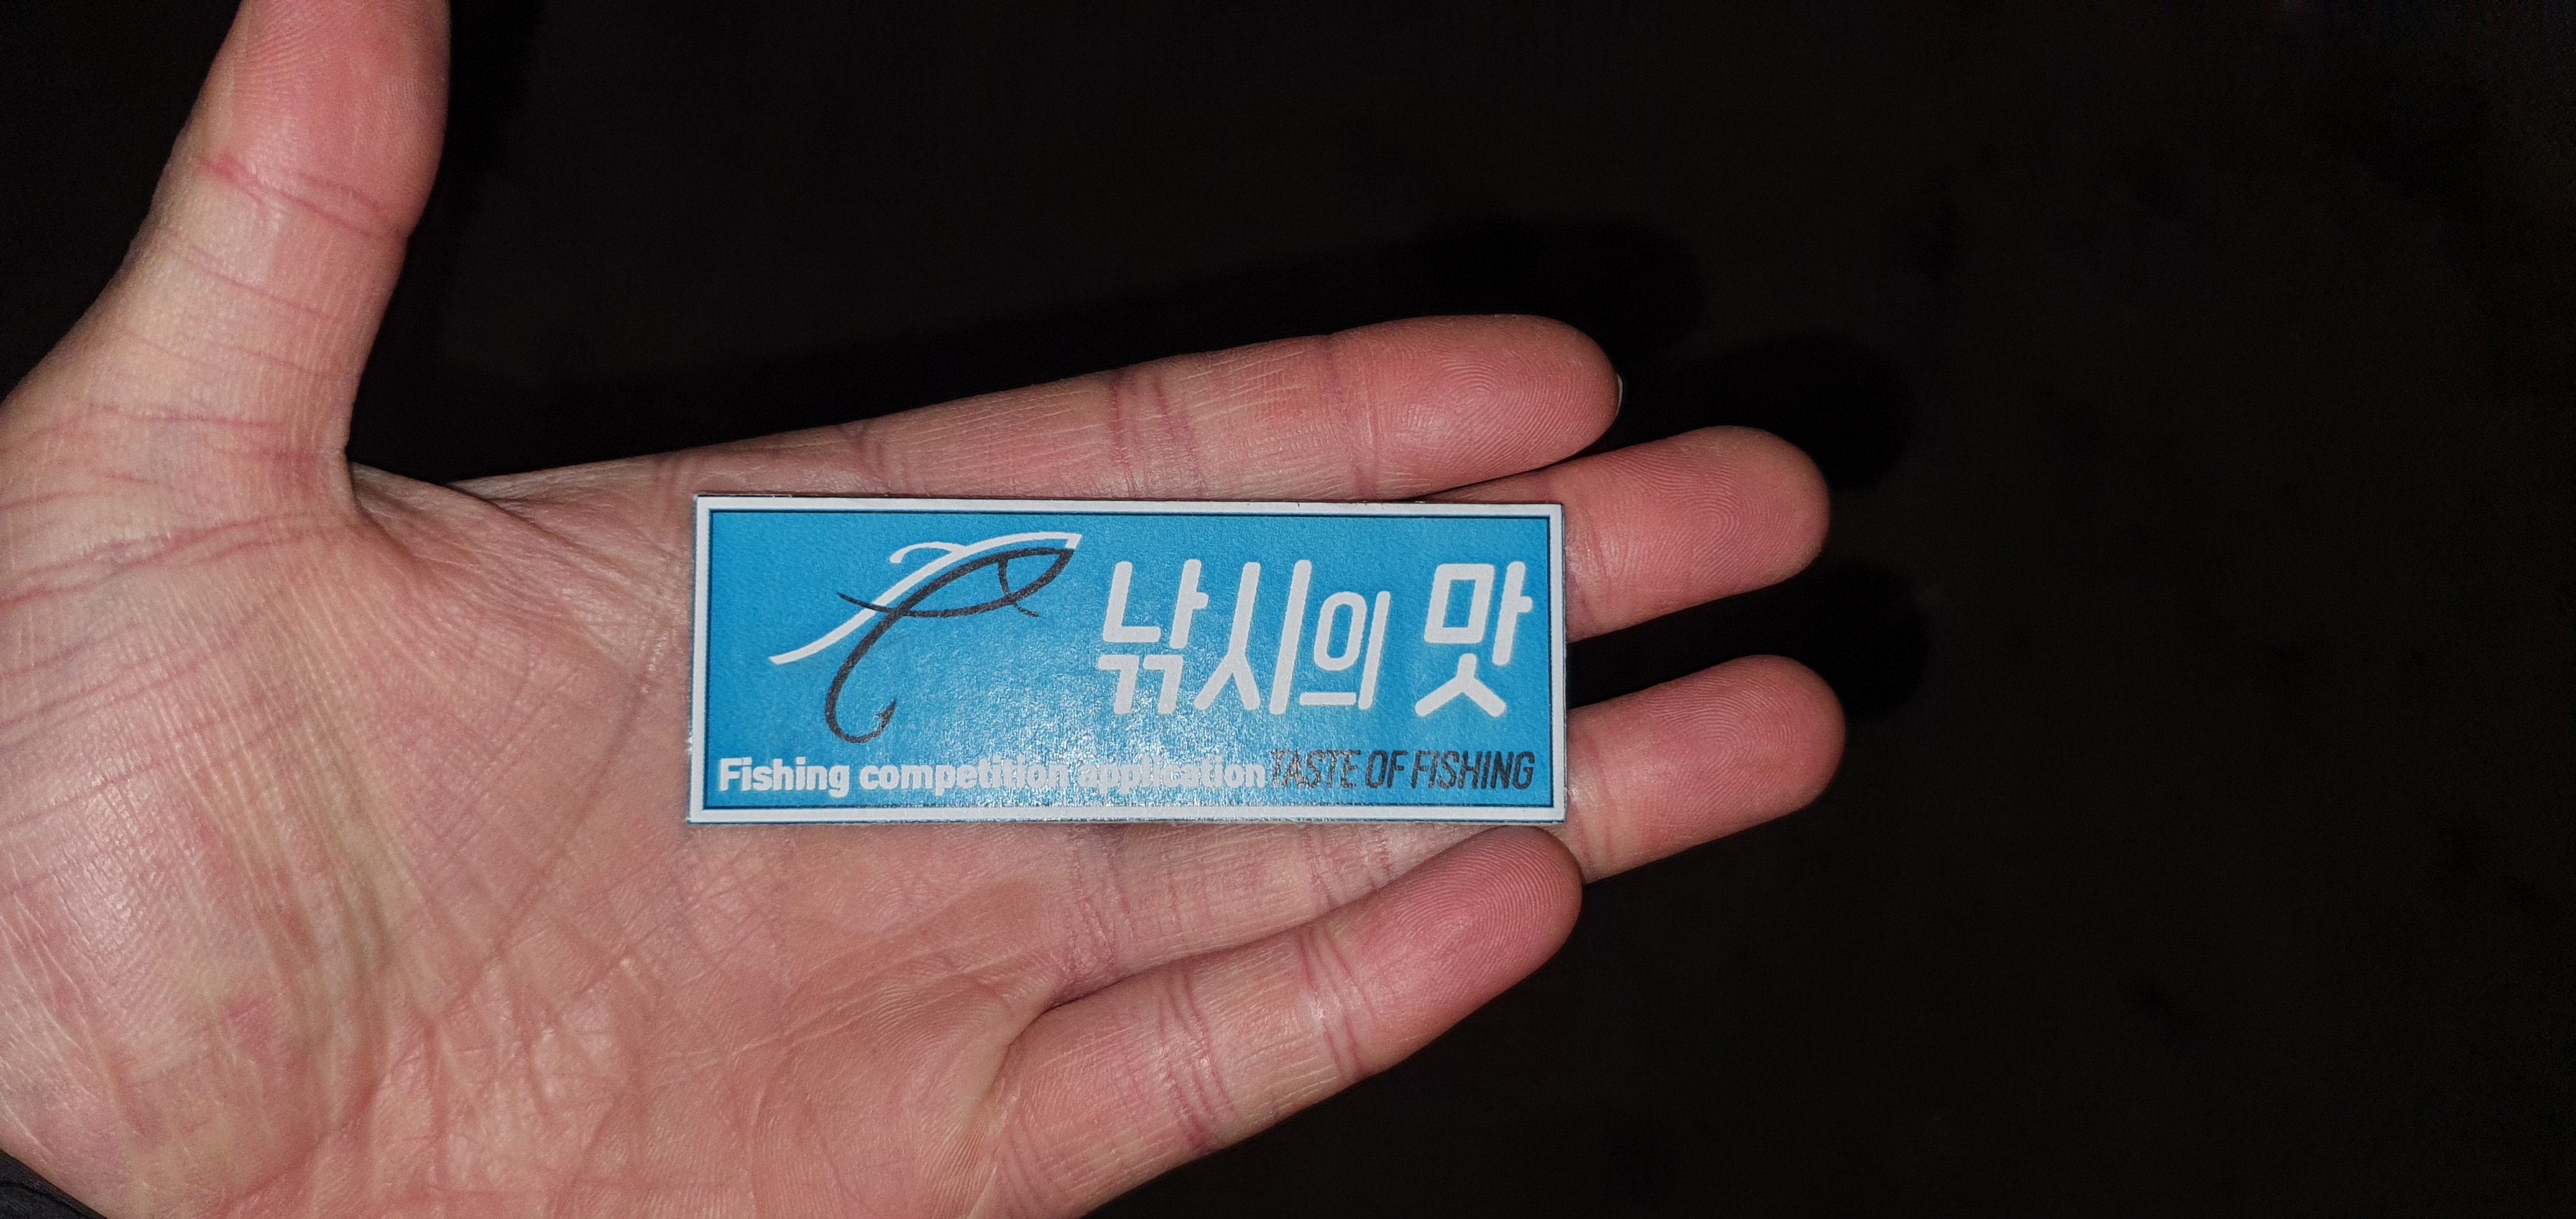tag: (688, 495, 1572, 826)
